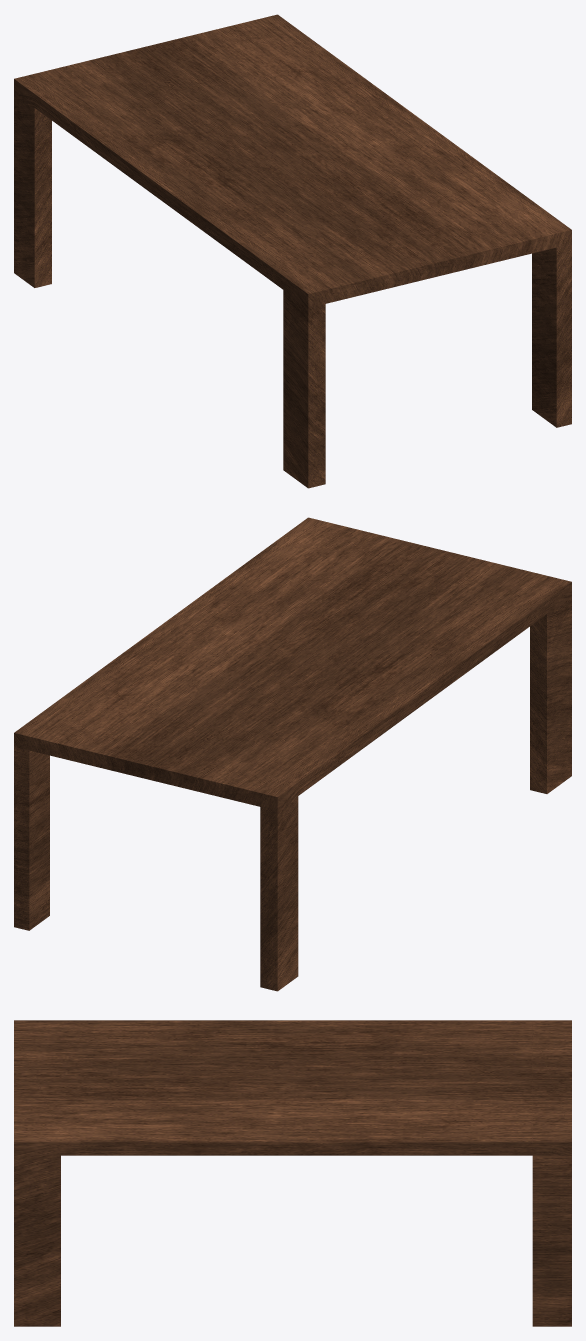
Rendered from mesa_dormitorio.fbx.
3 renders of one model, top to bottom at view 1: azimuth 30°, elevation 25°; view 2: azimuth 150°, elevation 25°; view 3: azimuth 270°, elevation 25°, orthographic. The views are drawn at different scales.
Parts seen in each view (by area): view 1: mesa_dormitorio; view 2: mesa_dormitorio; view 3: mesa_dormitorio.
Part boxes in pixels (<box>): mesa_dormitorio: <box>14,14,571,488</box>; mesa_dormitorio: <box>14,517,571,991</box>; mesa_dormitorio: <box>14,1020,571,1326</box>.
Size of the model in its own units: 209 by 147 by 404.
